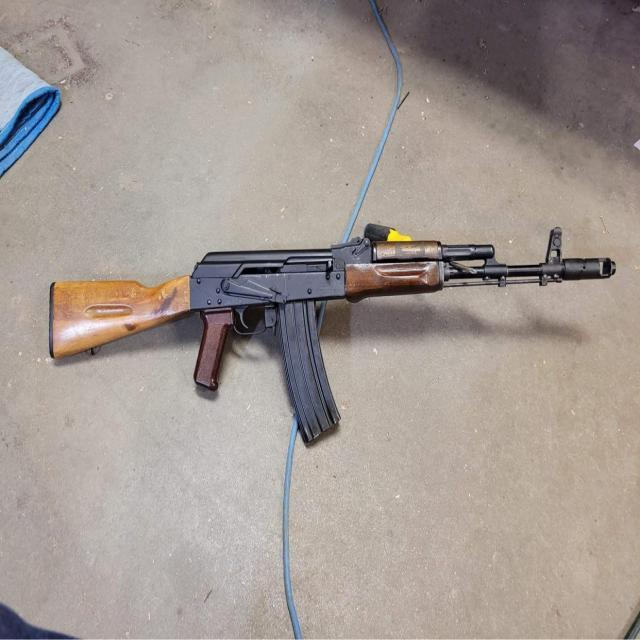weapon: (49, 227, 617, 447)
